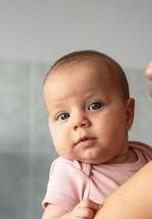Healthy: (39, 52, 142, 174)
